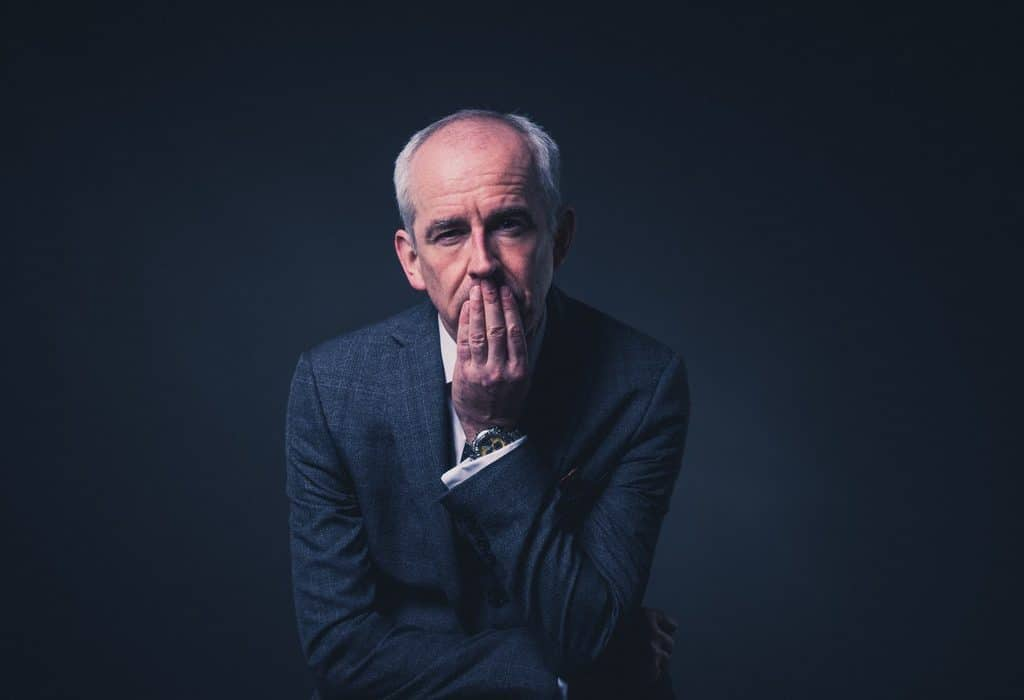person: (272, 108, 698, 700)
